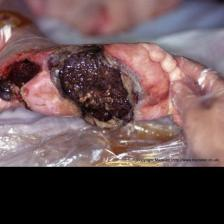Wound: (46, 45, 149, 133), (0, 57, 43, 123)
